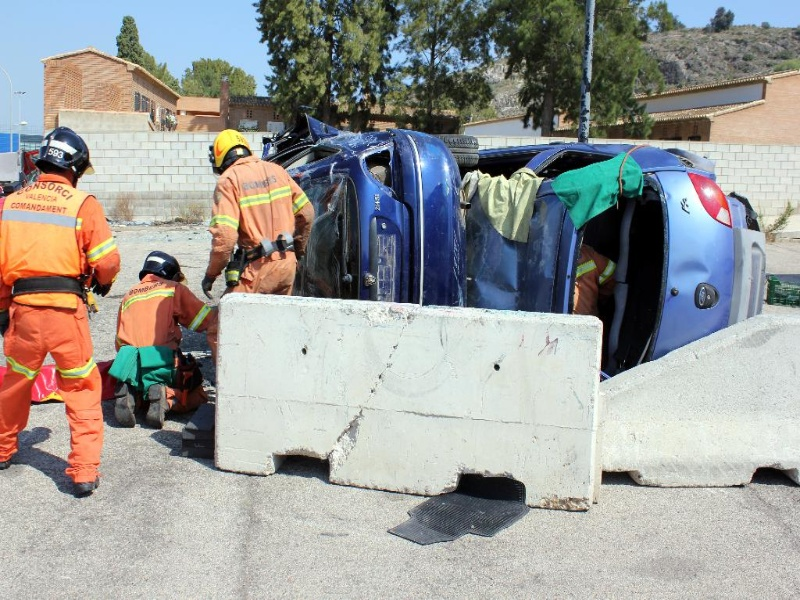helmet: (37, 126, 93, 170), (209, 129, 252, 161), (142, 250, 180, 279)
jacket: (8, 181, 115, 316), (212, 162, 308, 281), (122, 284, 184, 343)
